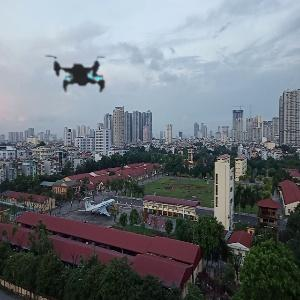drone: (27, 21, 136, 130)
